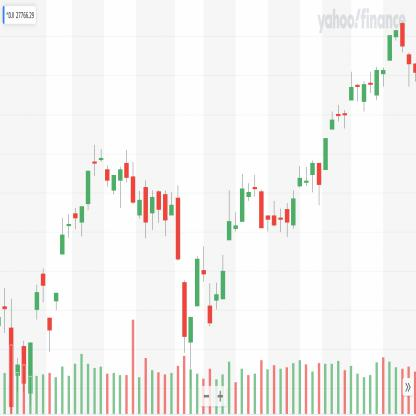Bearish: Engulfing: (136, 177, 149, 243)
Bullish: Engulfing: (284, 187, 297, 241)
Bullish: Kicker: (46, 288, 60, 357), (206, 277, 220, 333)
